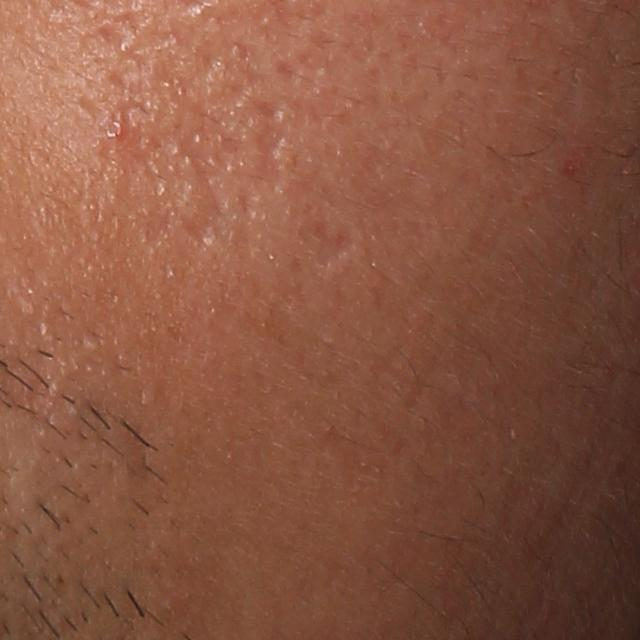atrophic_scar: (177, 136, 231, 257), (300, 214, 356, 277), (254, 106, 291, 194)
